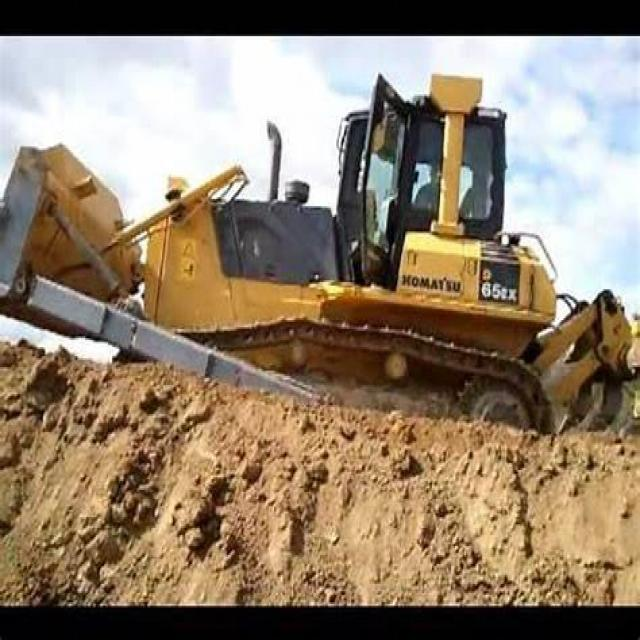Bulldozer: (9, 52, 626, 504)
